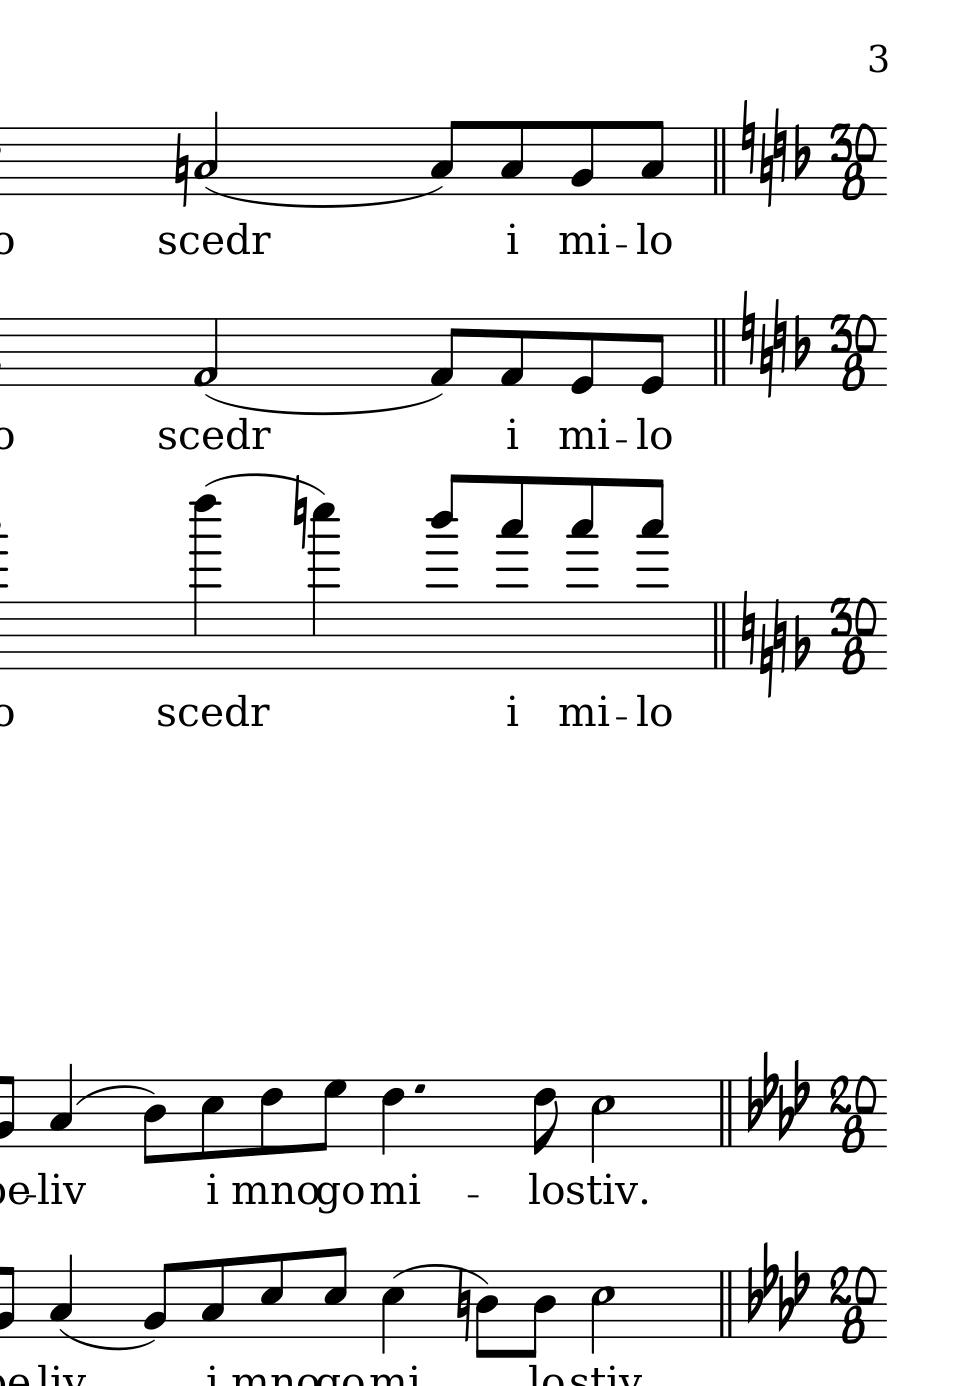0: (851, 594, 879, 635), (852, 121, 879, 161), (852, 312, 879, 352), (852, 1073, 878, 1113), (852, 1264, 878, 1304)
2: (827, 1265, 852, 1305), (828, 1074, 852, 1115)
2_1: (192, 316, 220, 389)
2_3: (193, 109, 218, 194)
2_5: (589, 1268, 616, 1356), (589, 1078, 615, 1161)
3: (826, 122, 853, 162), (828, 595, 854, 636), (828, 312, 853, 352), (867, 42, 890, 74)
4_19: (309, 502, 342, 672)
4_20: (189, 493, 221, 670)
4_3: (47, 1063, 74, 1150), (47, 1252, 73, 1339)
4_5: (379, 1268, 406, 1356)
4_6: (380, 1078, 404, 1156)
8: (833, 1073, 862, 1151), (839, 1113, 868, 1154), (839, 352, 868, 391), (839, 635, 867, 676), (839, 1304, 867, 1345), (840, 161, 867, 200)
8_0: (568, 317, 595, 397), (638, 317, 665, 396)
8_1: (428, 316, 463, 389), (497, 316, 525, 388)
8_17: (637, 477, 671, 671), (565, 476, 598, 673), (498, 474, 530, 671)
8_18: (427, 473, 463, 671)
8_2: (143, 1261, 174, 1340), (568, 119, 595, 198)
8_3: (428, 118, 463, 197), (199, 1257, 226, 1341), (498, 118, 525, 198), (638, 118, 665, 197)
8_4: (521, 1269, 556, 1359), (141, 1078, 167, 1166), (474, 1269, 498, 1359)
8_5: (321, 1245, 348, 1340), (258, 1251, 285, 1340), (198, 1078, 224, 1162)
8_6: (257, 1077, 283, 1158), (531, 1077, 558, 1157)
8_7: (313, 1077, 346, 1153)
A_F: (743, 1052, 813, 1144), (743, 1243, 813, 1334)
Double_barline: (715, 1078, 736, 1148), (716, 1269, 736, 1338), (708, 127, 729, 195), (710, 317, 728, 386)
Flat: (792, 611, 811, 671), (791, 313, 810, 373), (791, 123, 810, 183)
Natural: (288, 476, 309, 550), (172, 131, 190, 209), (454, 1267, 472, 1344), (741, 98, 756, 176), (773, 106, 788, 185), (758, 133, 773, 211), (740, 290, 755, 368), (771, 298, 786, 376), (740, 589, 755, 667), (758, 624, 773, 702), (757, 322, 772, 400), (772, 598, 787, 676)
Slur: (59, 1328, 153, 1351), (75, 1084, 157, 1105), (391, 1263, 484, 1281)
TimeSig: (833, 592, 877, 676), (833, 310, 877, 393), (830, 1262, 875, 1345), (833, 126, 877, 209), (832, 1072, 875, 1155)
dot: (412, 1081, 427, 1096)
